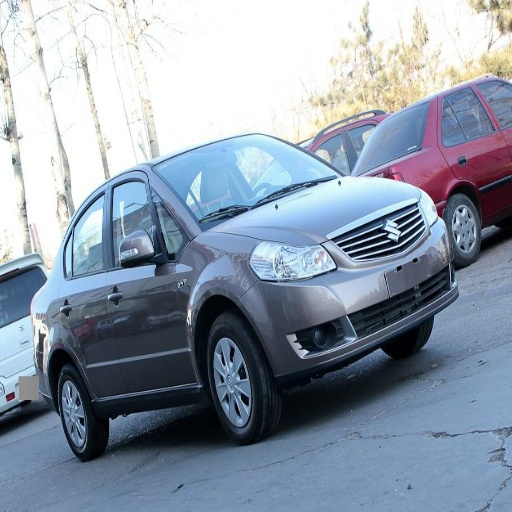front_bumper: (252, 213, 454, 389)
front_right_door: (110, 186, 188, 391)
front_right_light: (250, 242, 334, 280)
